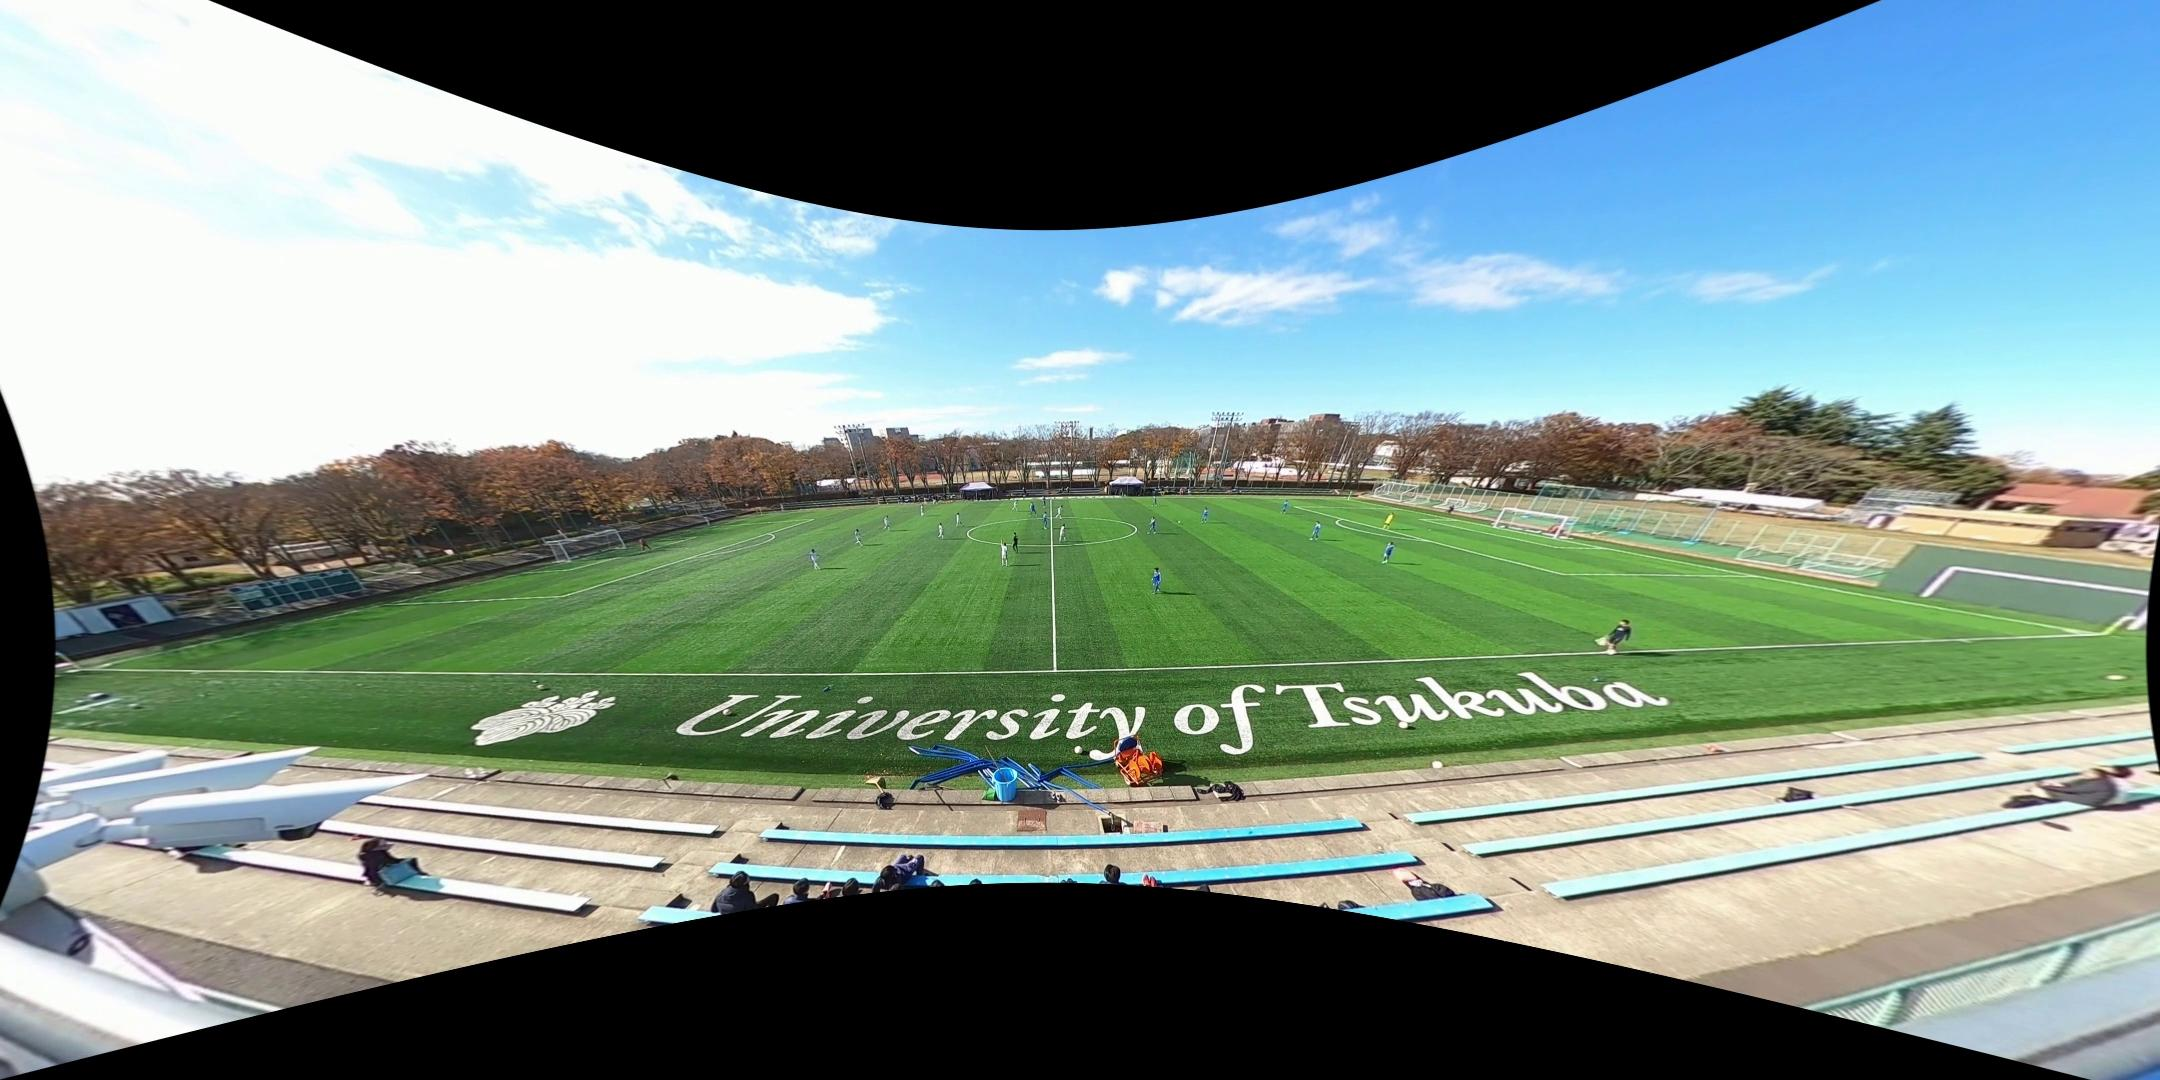person: (1595, 619, 1634, 656), (1380, 541, 1396, 564), (1151, 567, 1163, 594), (807, 547, 821, 570), (638, 534, 650, 554), (1309, 521, 1321, 541), (1001, 538, 1009, 567), (854, 528, 865, 546), (1383, 512, 1394, 530), (1147, 516, 1157, 535), (1011, 532, 1019, 553), (1058, 523, 1066, 543), (1028, 501, 1037, 517), (1200, 507, 1209, 523), (1041, 512, 1049, 529), (1010, 499, 1020, 512), (883, 515, 891, 531), (955, 513, 964, 527), (1281, 500, 1289, 515), (937, 522, 944, 539), (1056, 504, 1063, 520), (1042, 494, 1049, 509), (1151, 494, 1157, 507), (919, 504, 924, 516)
sports ball: (1432, 758, 1443, 769), (1074, 746, 1082, 757), (537, 682, 546, 691), (1399, 721, 1408, 730), (724, 708, 730, 717), (1178, 519, 1181, 525)
